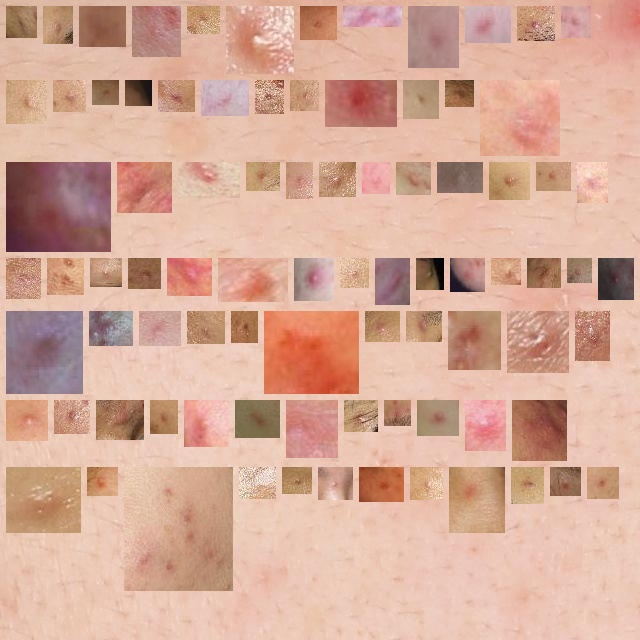papule: (132, 475, 225, 583), (14, 170, 103, 244), (272, 319, 351, 386), (14, 319, 75, 386), (488, 88, 552, 148), (14, 475, 73, 525), (234, 14, 286, 66), (515, 319, 561, 365), (520, 408, 566, 453), (457, 475, 497, 525), (333, 88, 389, 119), (416, 14, 451, 60), (456, 319, 493, 362), (226, 266, 280, 294), (294, 408, 330, 450), (125, 170, 164, 205), (140, 14, 173, 49), (186, 167, 232, 190), (192, 408, 221, 439), (473, 408, 498, 443), (87, 14, 118, 39), (104, 408, 136, 432), (473, 14, 503, 38), (14, 88, 39, 116), (14, 408, 40, 433), (302, 266, 326, 293), (583, 319, 602, 353), (209, 88, 241, 108), (175, 266, 204, 288), (243, 408, 272, 430), (383, 266, 402, 297), (445, 170, 475, 189), (367, 475, 396, 494), (497, 170, 522, 192), (97, 319, 125, 338), (606, 266, 626, 292), (425, 408, 451, 428), (147, 319, 173, 338), (14, 266, 33, 291), (411, 88, 431, 111), (55, 266, 76, 287), (525, 14, 547, 33), (327, 170, 348, 189), (308, 14, 329, 32), (585, 170, 600, 195), (195, 319, 217, 336), (62, 408, 82, 426), (519, 475, 536, 496), (458, 266, 477, 284), (166, 88, 187, 104), (247, 475, 268, 491), (404, 170, 423, 187), (326, 475, 345, 492), (51, 14, 65, 36), (414, 319, 434, 334), (418, 475, 435, 492), (352, 408, 370, 424), (373, 319, 392, 334), (61, 88, 78, 104), (595, 475, 611, 491), (136, 266, 153, 281), (535, 266, 553, 280), (544, 170, 563, 183), (14, 14, 29, 30), (263, 88, 276, 106), (254, 170, 272, 183), (294, 170, 305, 191), (569, 14, 583, 30), (158, 408, 170, 426), (98, 266, 114, 279), (195, 14, 212, 26), (298, 88, 311, 103), (95, 475, 110, 488), (558, 475, 573, 488), (370, 170, 382, 186), (424, 266, 436, 282), (348, 266, 361, 280), (239, 319, 250, 335), (499, 266, 513, 277), (290, 475, 304, 486), (453, 88, 466, 99), (133, 88, 144, 98), (392, 408, 403, 418), (100, 88, 111, 97), (575, 266, 584, 275)
